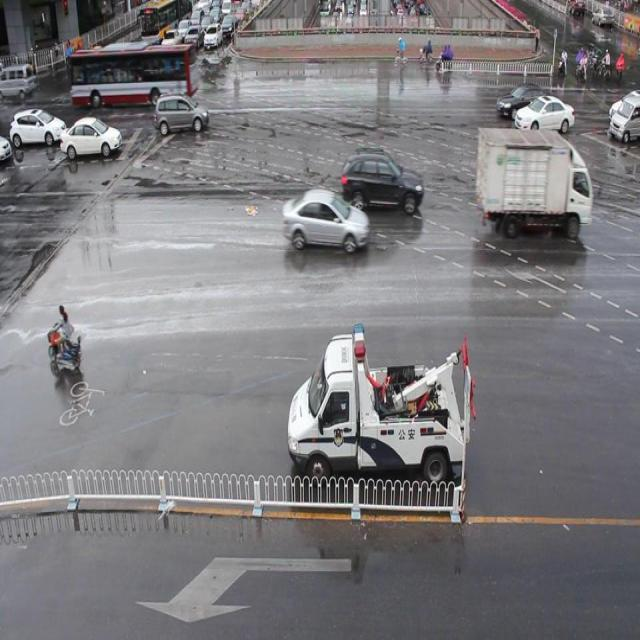bus: (286, 320, 475, 486), (476, 125, 592, 240)
car: (282, 187, 369, 252), (339, 149, 424, 212), (61, 116, 121, 157), (513, 93, 573, 131), (154, 92, 209, 132), (495, 82, 549, 118)
truck: (607, 88, 640, 142)
van: (71, 47, 198, 102)
